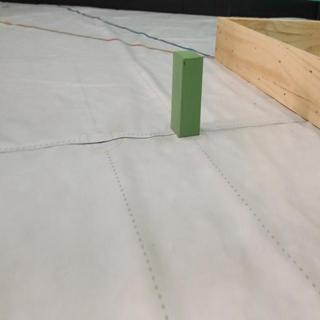greenbox: (171, 51, 205, 141)
